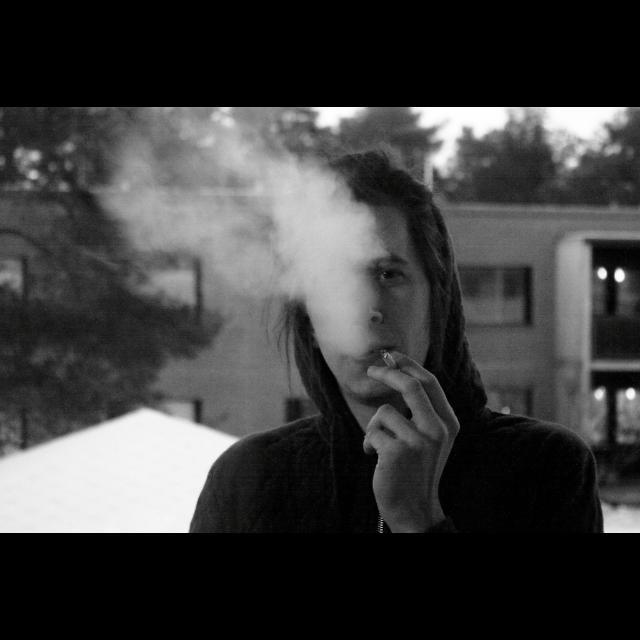rokok: (380, 350, 398, 370)
